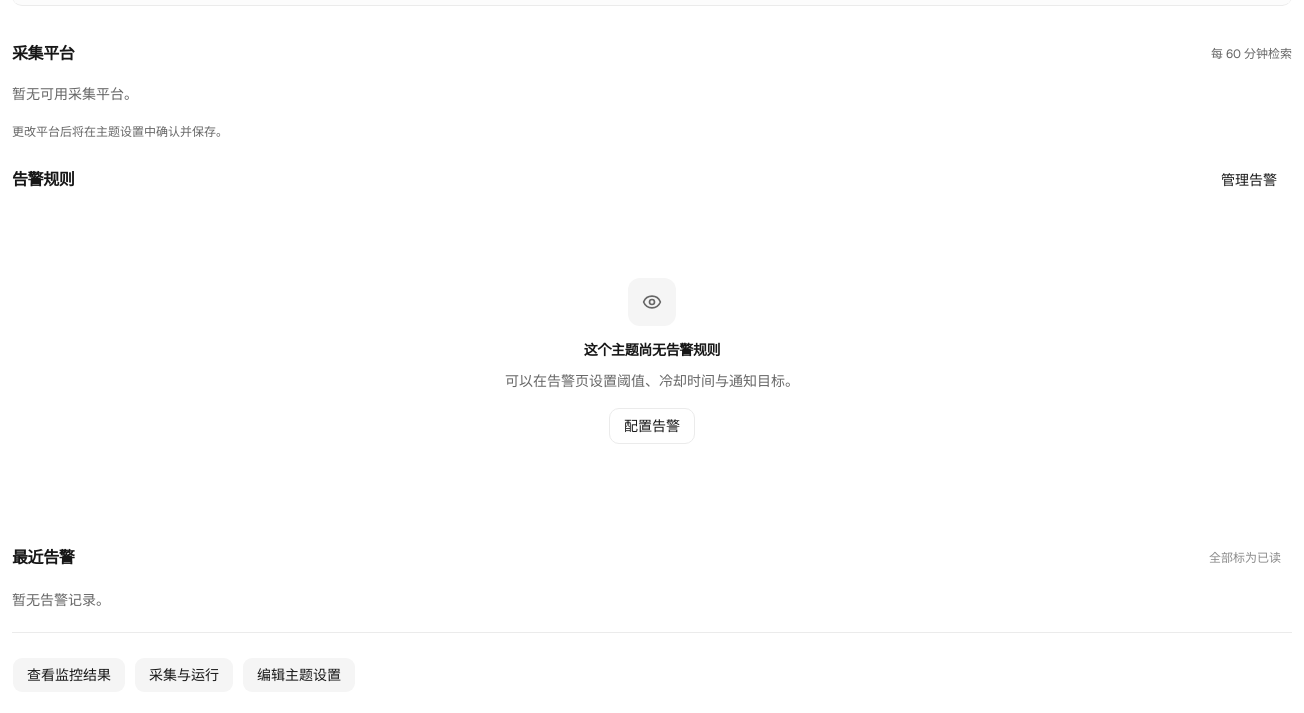
Test: keeps a failed embedded refresh below the workspace heading
(page scrolled)
Click the button "编辑主题设置" at {"x": 299, "y": 675}, box [242,657,356,693]
(page scrolled)
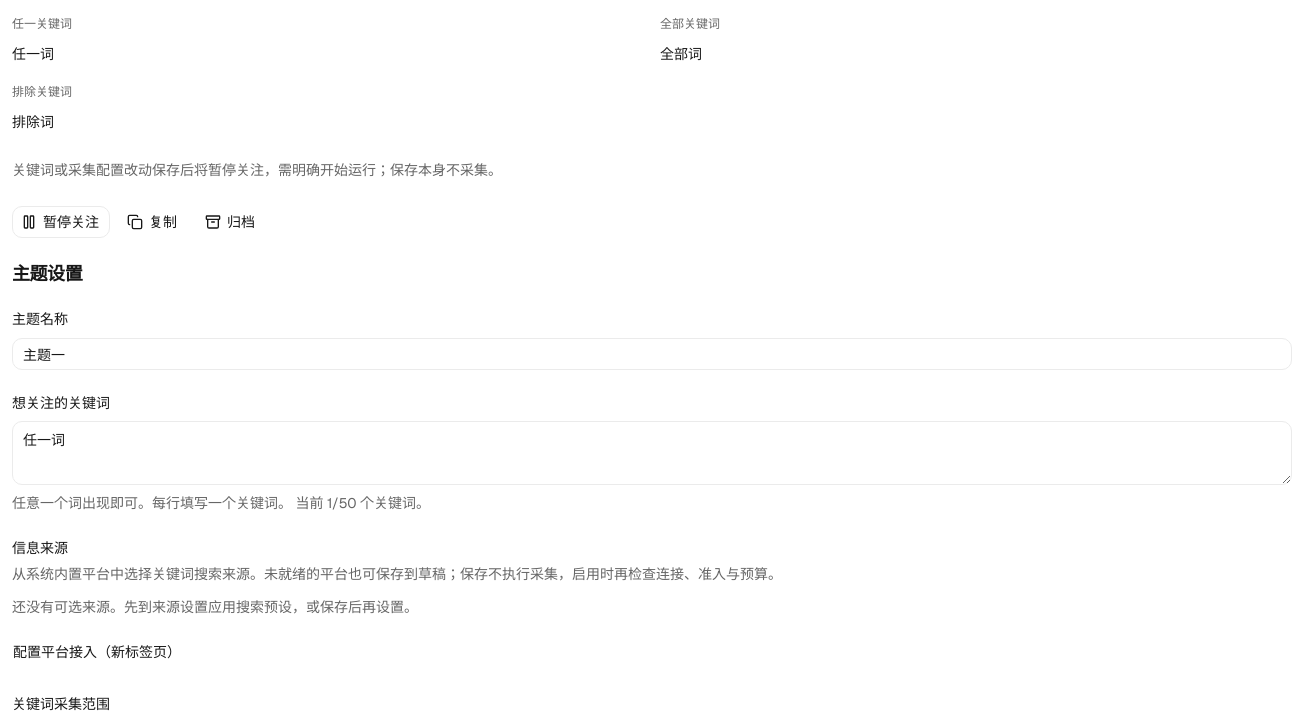
Replace the text in the field labelled "主题名称" with "未保存的草稿" at {"x": 652, "y": 354}, box [12,338,1292,370]
(page scrolled)
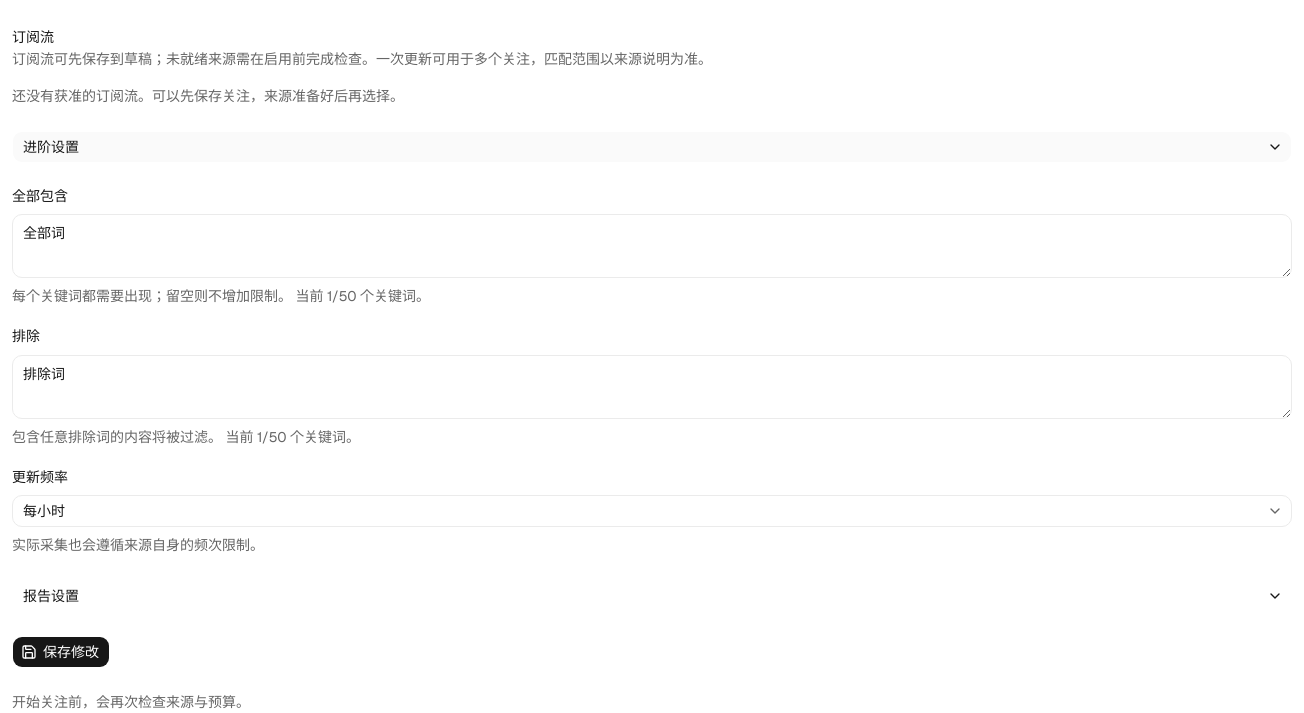
Click the button "保存修改" at {"x": 61, "y": 652}, box [12,636,110,668]
(page scrolled)
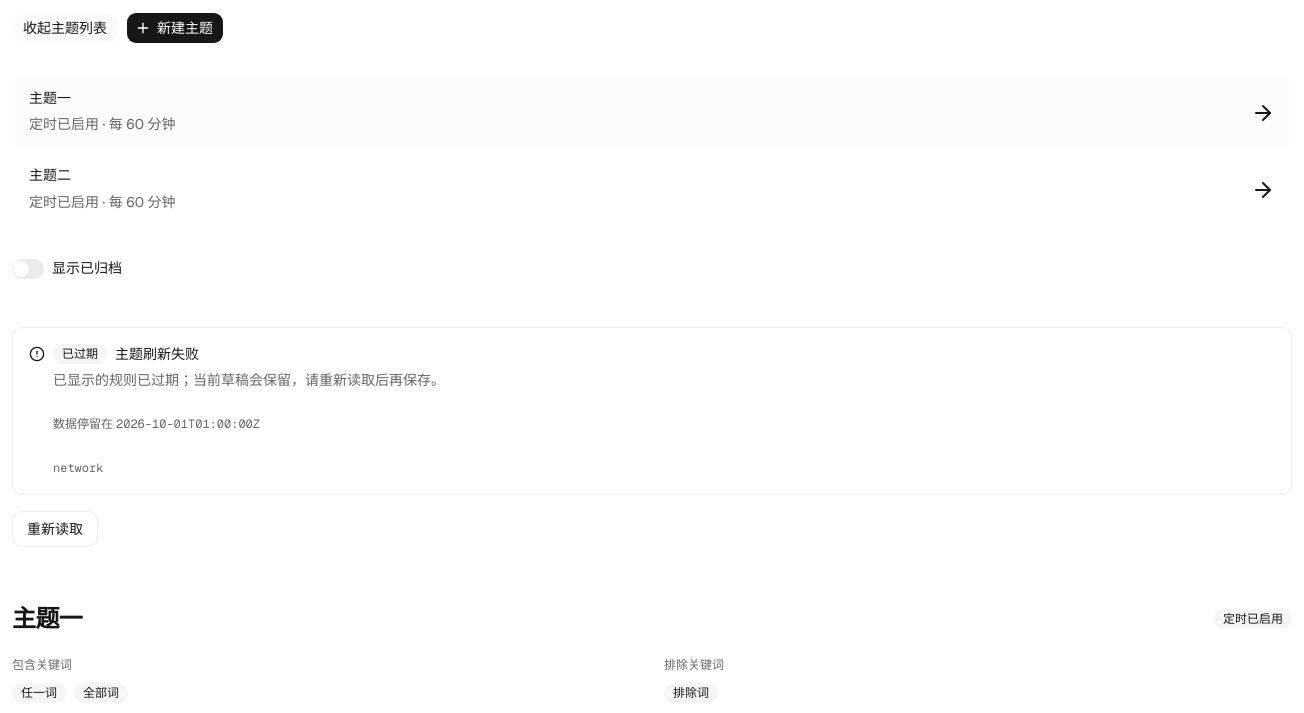
Expected: the heading "已过期 主题刷新失败" is shown, [53,344,199,364]
